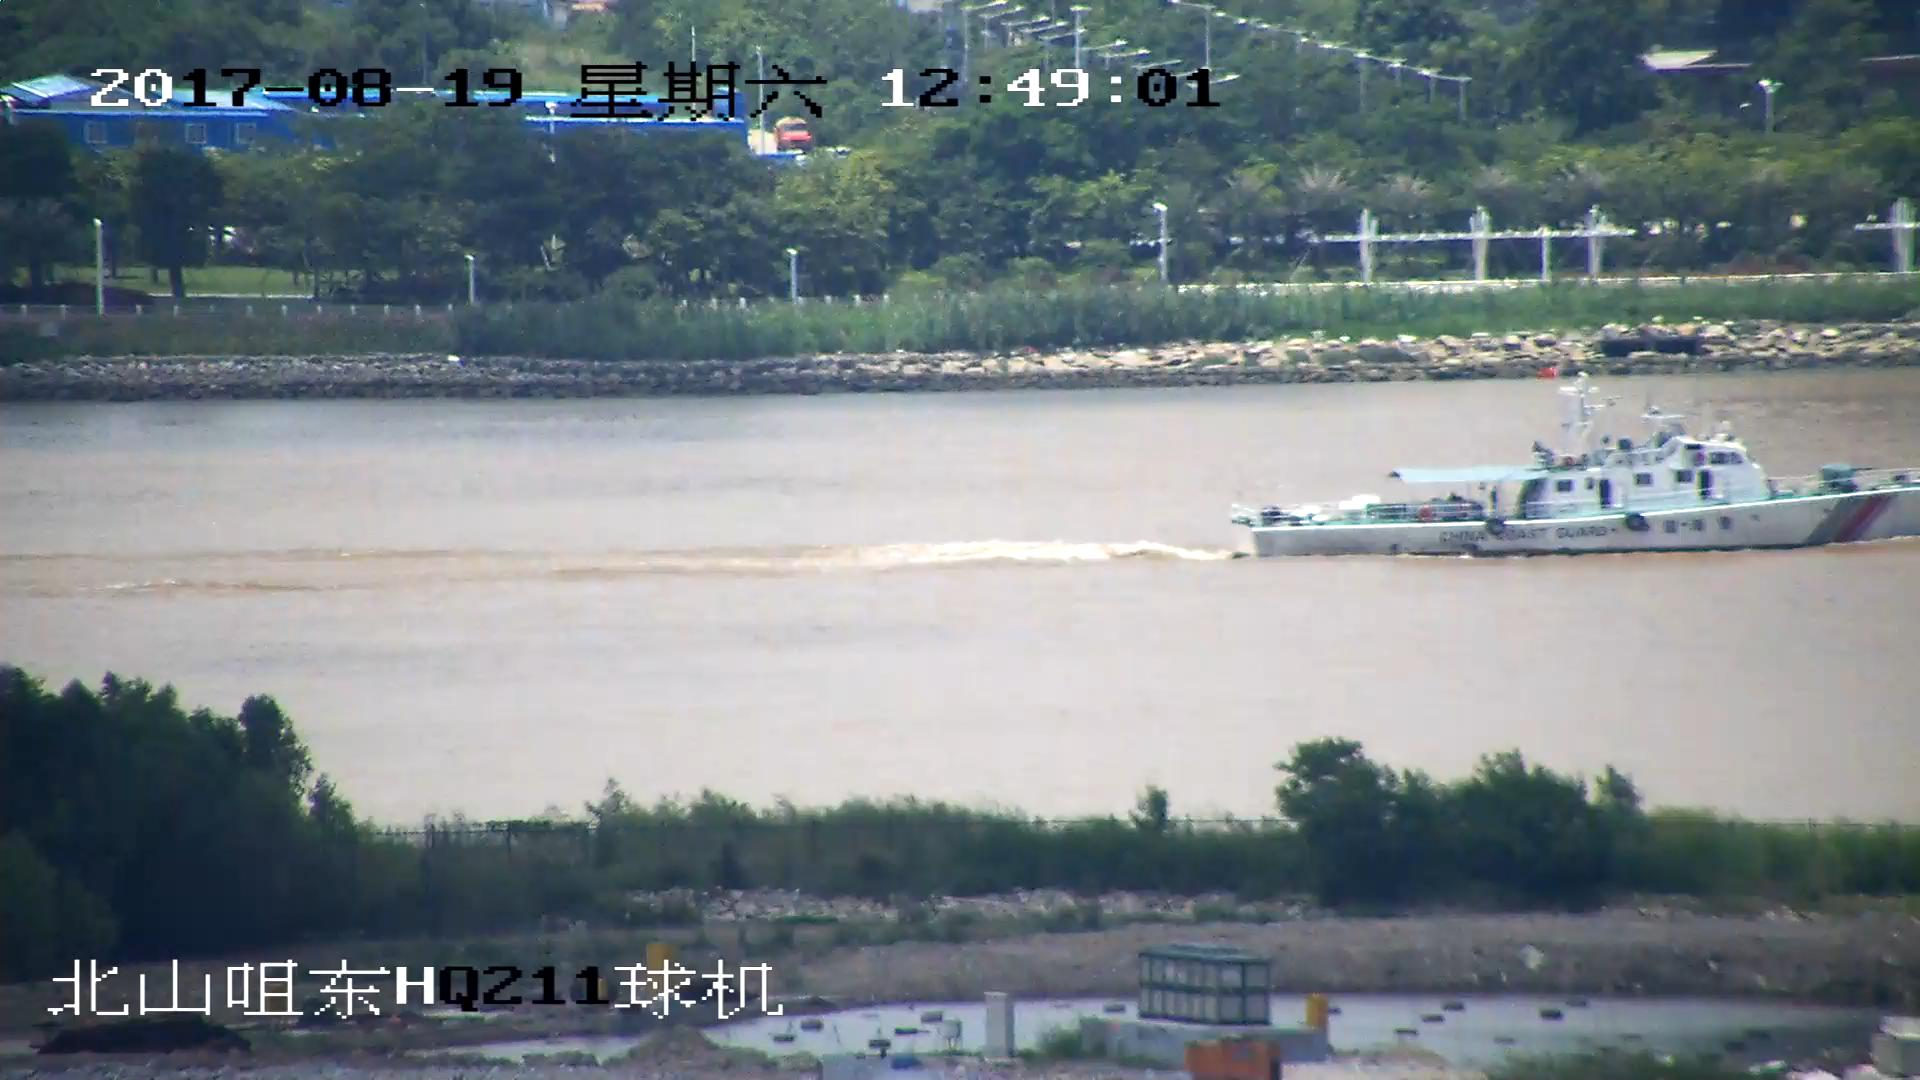passenger ship: (1242, 386, 1920, 560)
